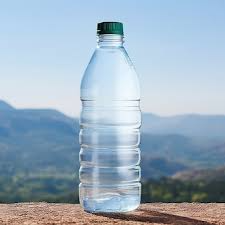bottle: (73, 19, 145, 213)
